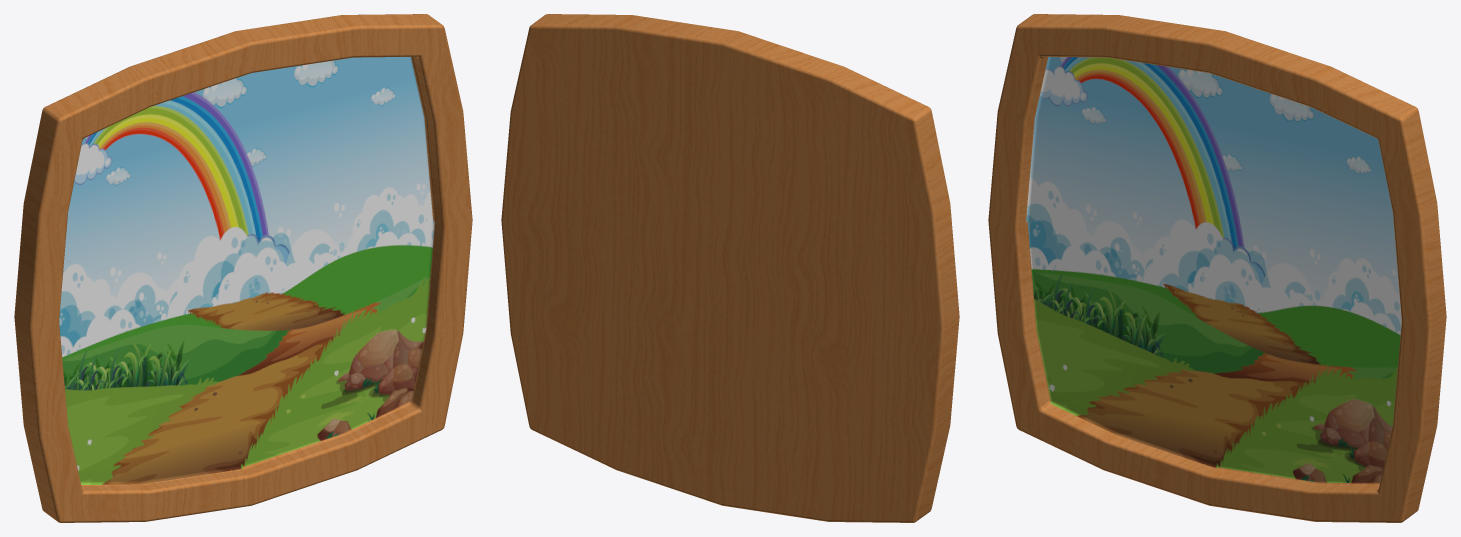
Rendered from picture.fbx.
3 views of the same model, side by side, from view 1: azimuth 30°, elevation 25°; view 2: azimuth 150°, elevation 25°; view 3: azimuth 330°, elevation 25° (orthographic).
Parts seen in each view (by area): view 1: picture cartoon; view 2: picture cartoon; view 3: picture cartoon.
Part boxes in pixels (x1,y1,x2,y2): picture cartoon: (14,14,472,522); picture cartoon: (501,14,959,522); picture cartoon: (988,14,1446,522).
Size of the model in its own units: 66.94 by 66.94 by 4.57.
